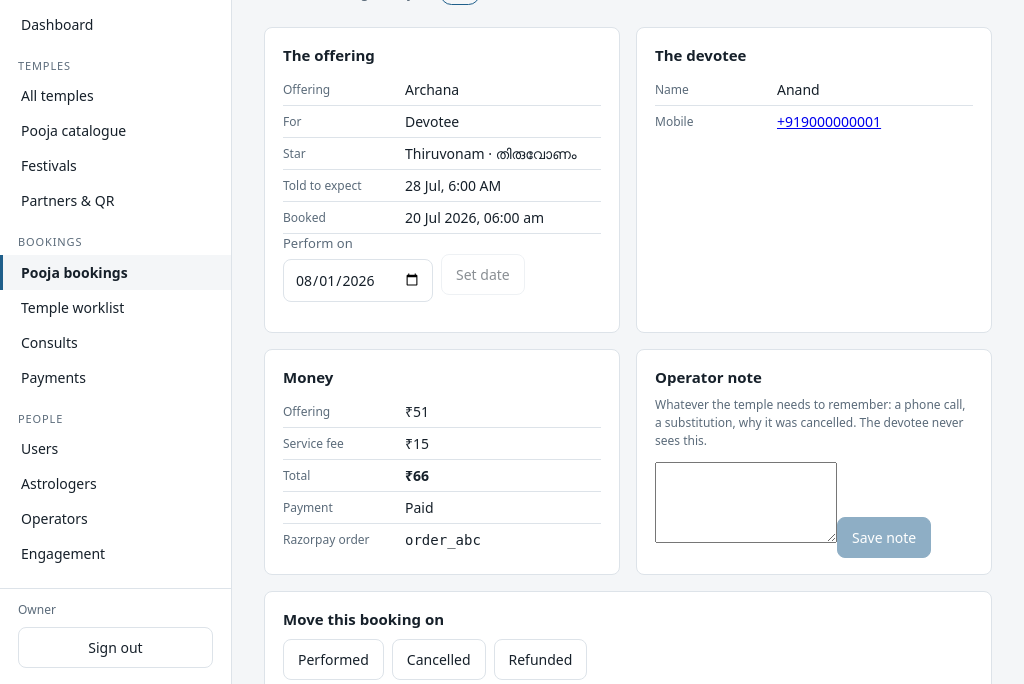
Test case: a status transition › warns that a refund here moves no money
Click the button "Refunded". click: coordinates (540, 659)
box: [494, 638, 587, 680]
(page scrolled)
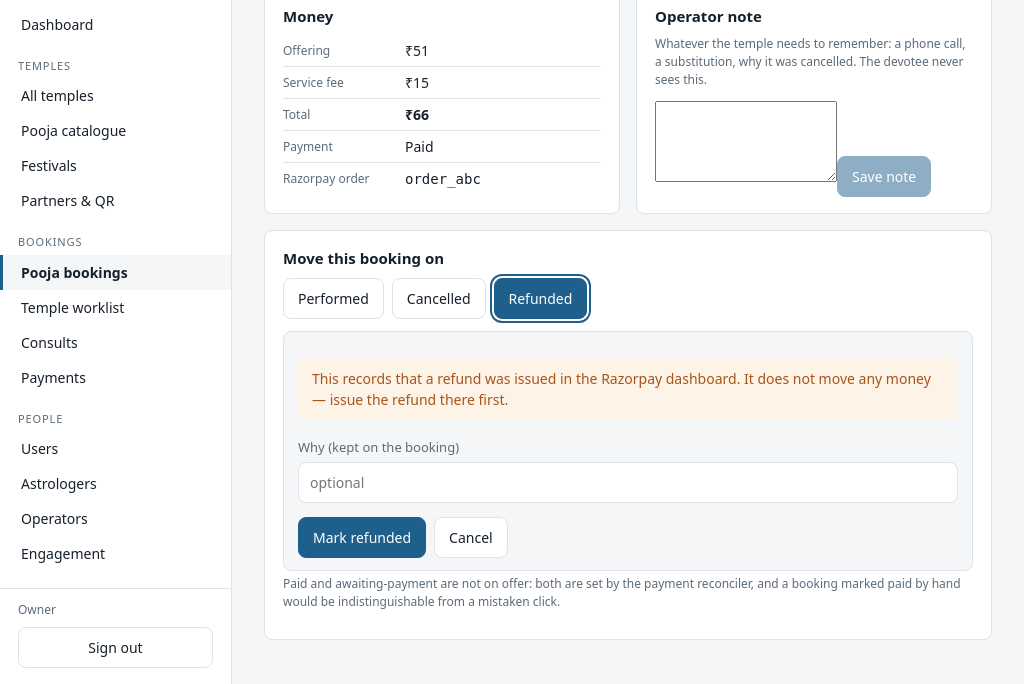
Check: the text "does not move any money" is shown, box [312, 368, 931, 408]
